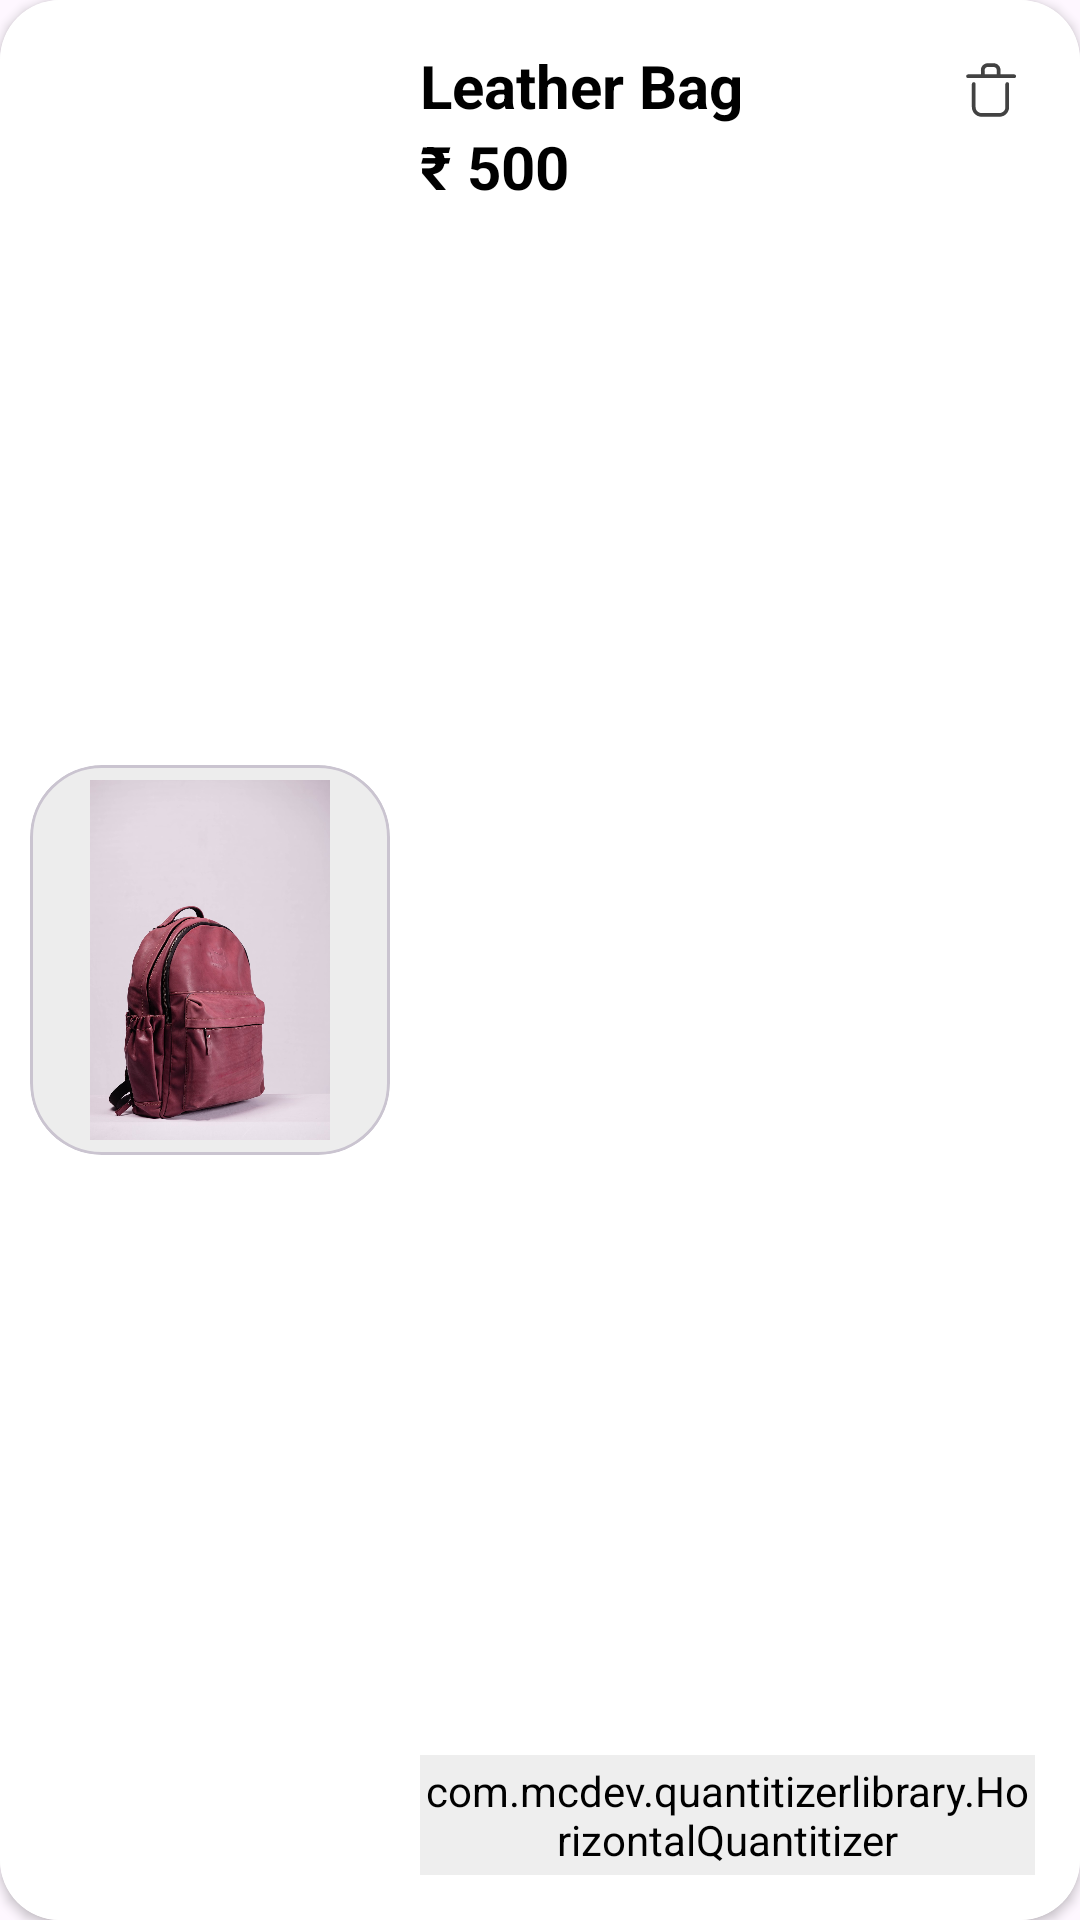

Named icons in this screenshot (1080 x 1920) and their centers, (x=x, y=y):
delete: (x=991, y=90)
